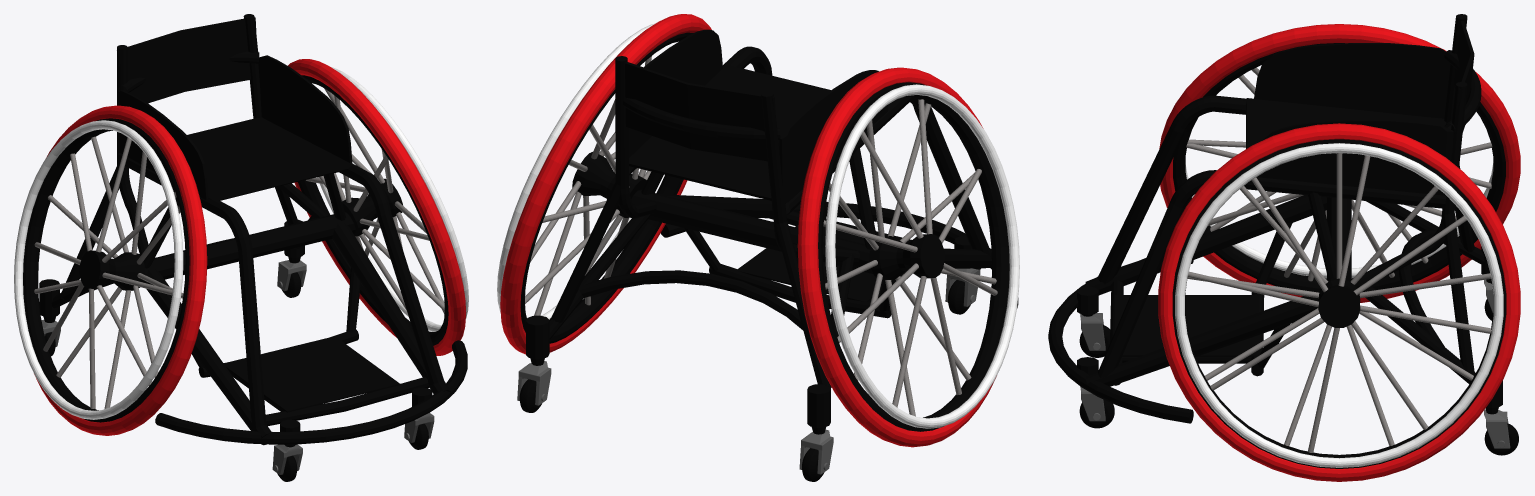
The model's file is wheelchair_2.glb.
3 views of the same model, side by side, from view 1: azimuth 30°, elevation 25°; view 2: azimuth 150°, elevation 25°; view 3: azimuth 270°, elevation 25° (orthographic). The views are drawn at different scales.
Parts seen in each view (by area): view 1: Frame, Circle.012, R_Front_Wheel, R_Rear_Wheel; view 2: Circle.012, Frame, R_Rear_Wheel, R_Front_Wheel; view 3: Circle.012, Frame, R_Front_Wheel, R_Rear_Wheel.
Boxes of the visible parts, x1,y1,x2,y2 form: Frame: (39, 14, 467, 447); Circle.012: (14, 59, 468, 435); R_Front_Wheel: (272, 412, 434, 481); R_Rear_Wheel: (41, 260, 306, 356); Circle.012: (497, 14, 1019, 447); Frame: (526, 29, 1018, 434); R_Rear_Wheel: (517, 361, 833, 481); R_Front_Wheel: (945, 268, 980, 314); Circle.012: (1158, 24, 1520, 481); Frame: (1048, 14, 1502, 423); R_Front_Wheel: (1079, 313, 1114, 428); R_Rear_Wheel: (1484, 279, 1518, 455).
Bounding box in the file's own units: 0.7234 × 0.5955 × 0.7459.
